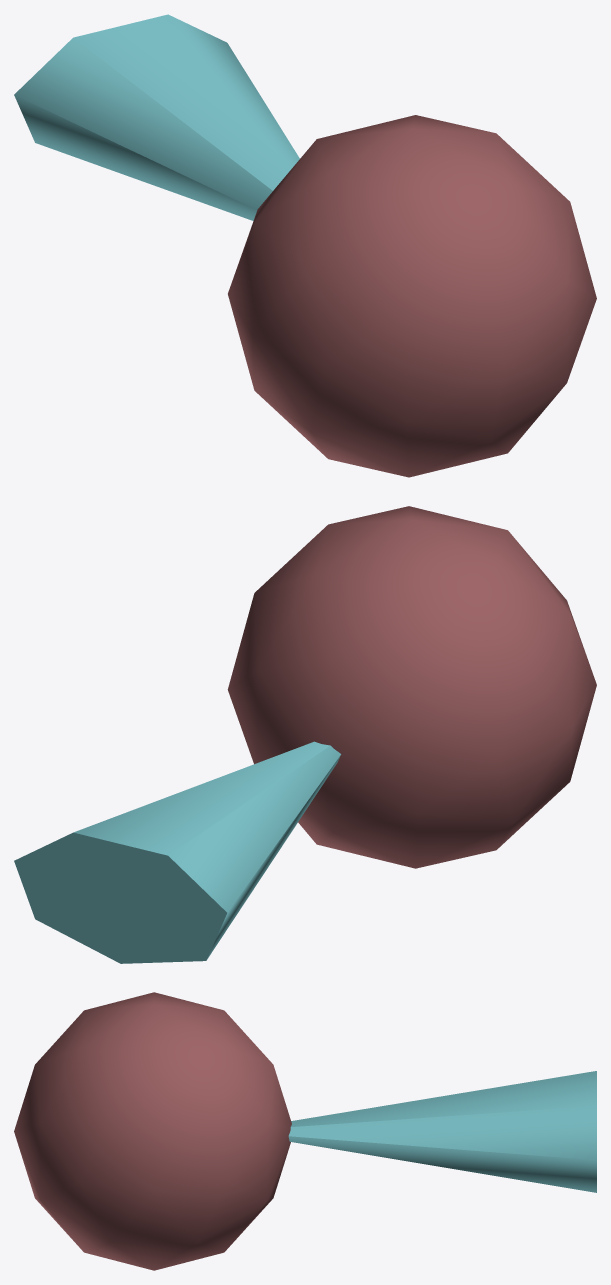
The model's file is wpn_r_05.glb.
The picture shows the model from 3 angles, top to bottom: view 1: azimuth 30°, elevation 25°; view 2: azimuth 150°, elevation 25°; view 3: azimuth 270°, elevation 25°; orthographic projection. The views are drawn at different scales.
Visible parts, largest first — view 1: projectile_core, projectile_trail; view 2: projectile_core, projectile_trail; view 3: projectile_core, projectile_trail.
Part boxes in pixels (bbox=[...]): projectile_core: bbox=[228, 115, 596, 477]; projectile_trail: bbox=[14, 14, 299, 220]; projectile_core: bbox=[227, 506, 596, 868]; projectile_trail: bbox=[14, 741, 341, 963]; projectile_core: bbox=[14, 992, 291, 1270]; projectile_trail: bbox=[288, 1071, 596, 1192].
Bounding box in the file's own units: 0.38 × 0.38 × 0.79.
